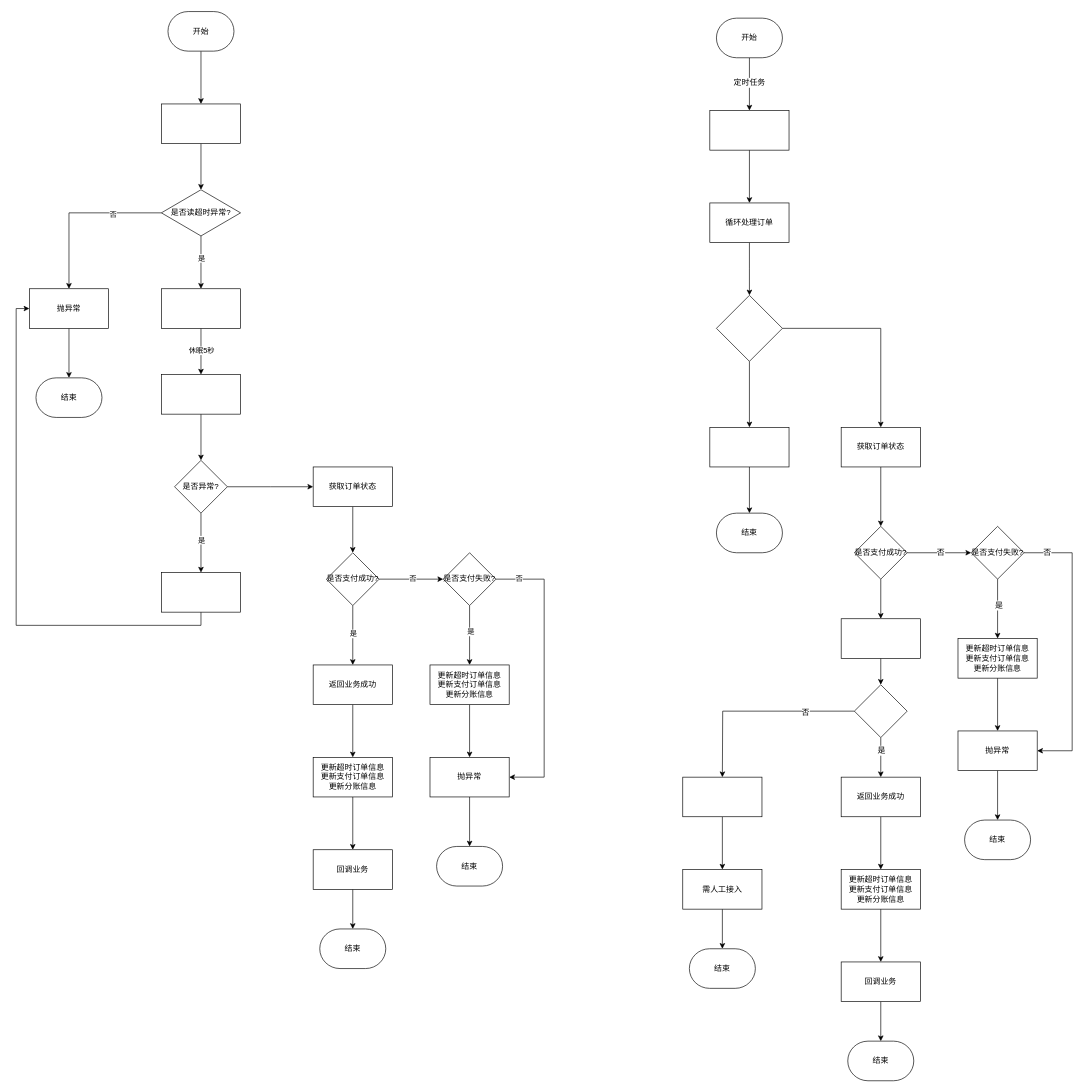
This 1089x1092 diagram has some shape labels left out. Each missing label, with the centre of its shape:
保存异常数据: (x=201, y=592)
工行代扣: (x=201, y=123)
支付订单是否已完成?: (x=749, y=328)
更新超时订单数据: (x=749, y=447)
获取支付订单对应账单状态: (x=880, y=638)
获取未处理 未支付超时订单: (x=749, y=130)
记录异常订单: (x=201, y=308)
调用工行订单查询接口: (x=201, y=394)
账单已关闭 部分还款: (x=722, y=796)
账单状态=已出账?: (x=880, y=711)
